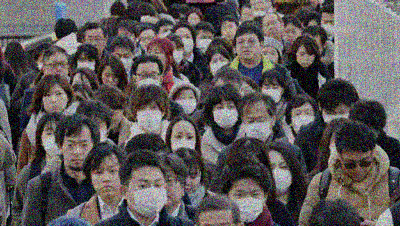with_mask: (129, 176, 168, 218), (229, 186, 265, 223), (244, 113, 272, 141), (136, 102, 162, 131), (213, 101, 238, 130), (271, 161, 292, 195), (42, 125, 62, 158), (170, 130, 196, 153), (292, 107, 315, 132), (175, 90, 197, 114), (322, 106, 350, 124), (136, 69, 161, 89), (262, 82, 282, 103), (177, 32, 194, 54), (114, 51, 132, 70), (196, 33, 213, 52), (77, 56, 97, 72), (321, 18, 335, 36), (172, 46, 184, 65)
without_mask: (91, 162, 121, 197), (63, 138, 93, 171), (341, 154, 373, 182), (236, 35, 261, 60), (42, 88, 68, 112), (165, 172, 182, 207), (84, 34, 105, 56), (46, 59, 69, 78), (185, 169, 202, 193), (262, 18, 282, 38), (101, 69, 120, 87), (296, 49, 314, 67), (282, 26, 300, 43), (221, 22, 237, 40), (140, 33, 155, 48), (263, 48, 279, 62)
